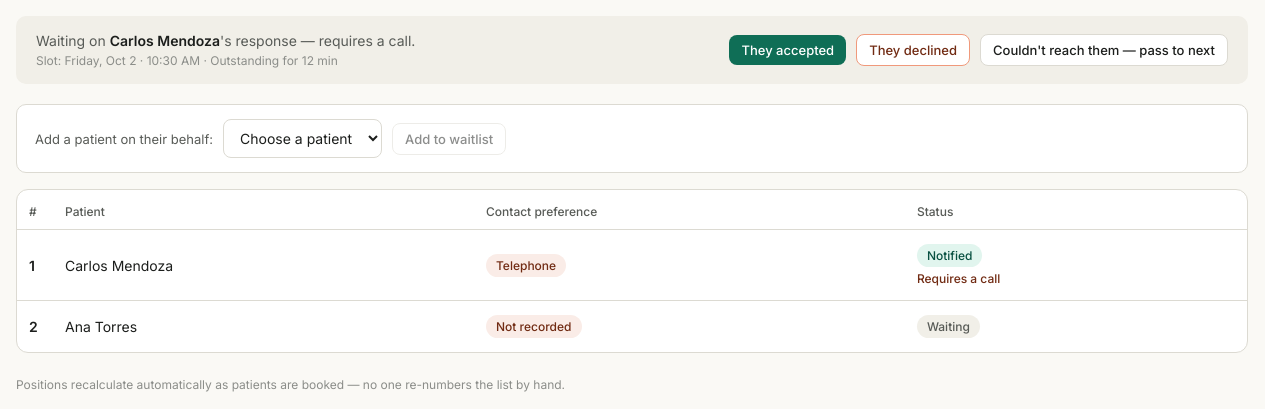
Test: staff waitlist view › the slot control follows the holder (5.5) › records an acceptance in one click, with no confirmation step
What coordinates should you click on to do the following:
click the button "They accepted"
I would click on:
 (788, 50)
Its box is [730, 35, 846, 65].
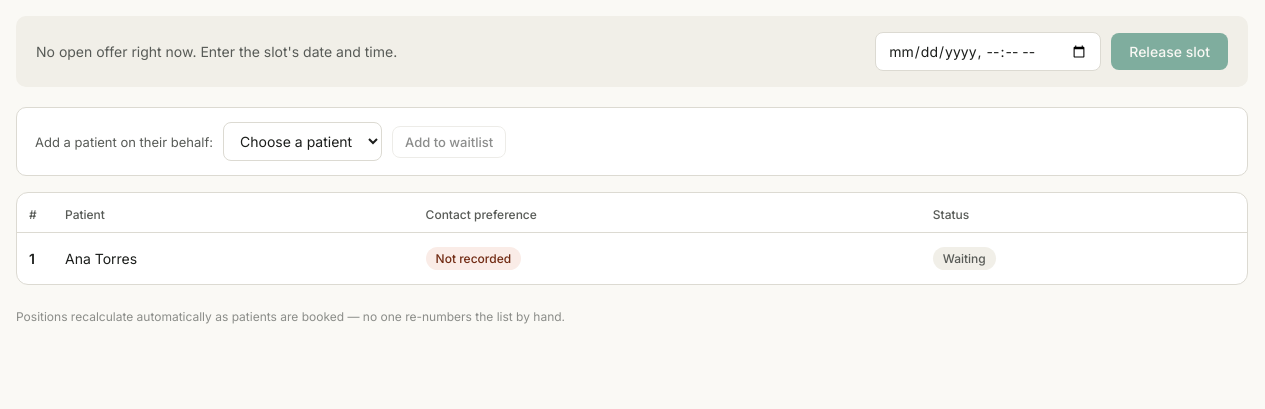
Now the text "Carlos Mendoza" is gone
Now the text "Waiting on" is gone
